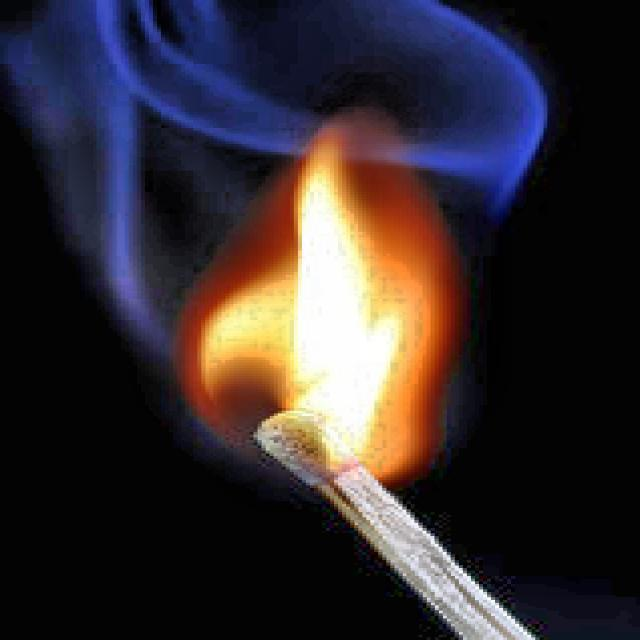Fire: (286, 154, 398, 468)
